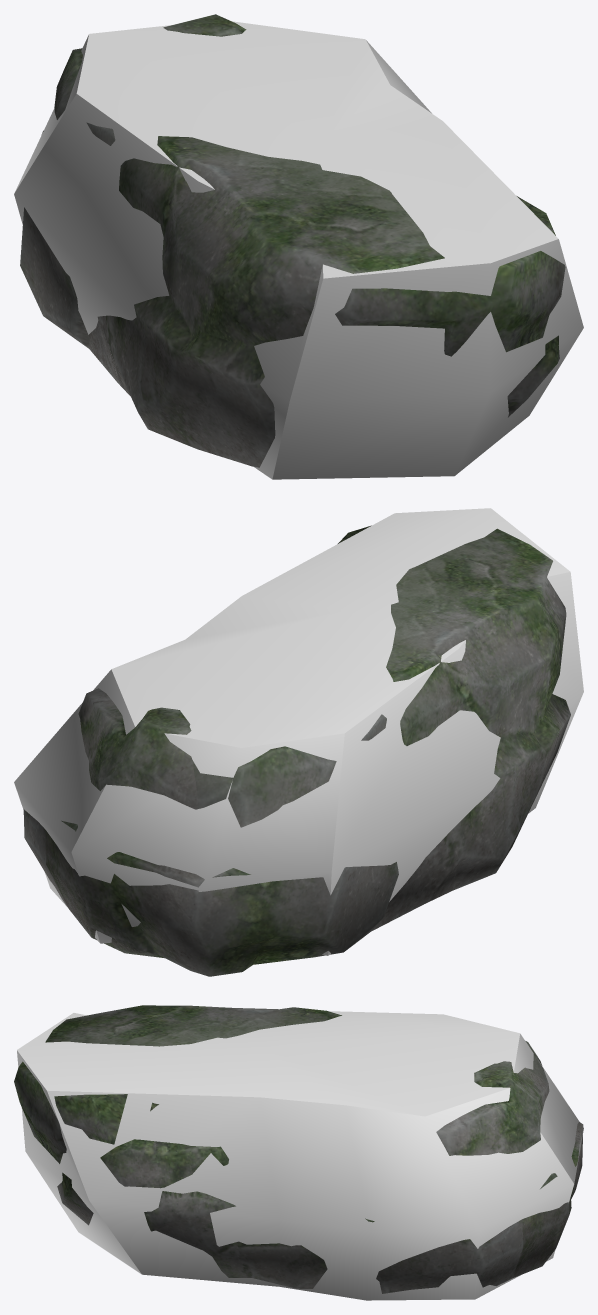
File: Scene_Rock_HeBianShi_2a.FBX
3 views of the same model, one above another, from view 1: azimuth 30°, elevation 25°; view 2: azimuth 150°, elevation 25°; view 3: azimuth 270°, elevation 25° (orthographic). The views are drawn at different scales.
Visible parts, largest first — view 1: Scene_Rock_HeBianShi_2a_Xzm, Scene_Rock_HeBianShi_2a; view 2: Scene_Rock_HeBianShi_2a_Xzm, Scene_Rock_HeBianShi_2a; view 3: Scene_Rock_HeBianShi_2a_Xzm, Scene_Rock_HeBianShi_2a.
Boxes of the visible parts, <box> form: Scene_Rock_HeBianShi_2a_Xzm: <box>14,21,583,479</box>; Scene_Rock_HeBianShi_2a: <box>20,14,565,467</box>; Scene_Rock_HeBianShi_2a_Xzm: <box>14,508,583,955</box>; Scene_Rock_HeBianShi_2a: <box>23,525,570,976</box>; Scene_Rock_HeBianShi_2a_Xzm: <box>17,1011,583,1300</box>; Scene_Rock_HeBianShi_2a: <box>14,1005,583,1293</box>.
Bounding box in the file's own units: 618 × 401 × 986.
